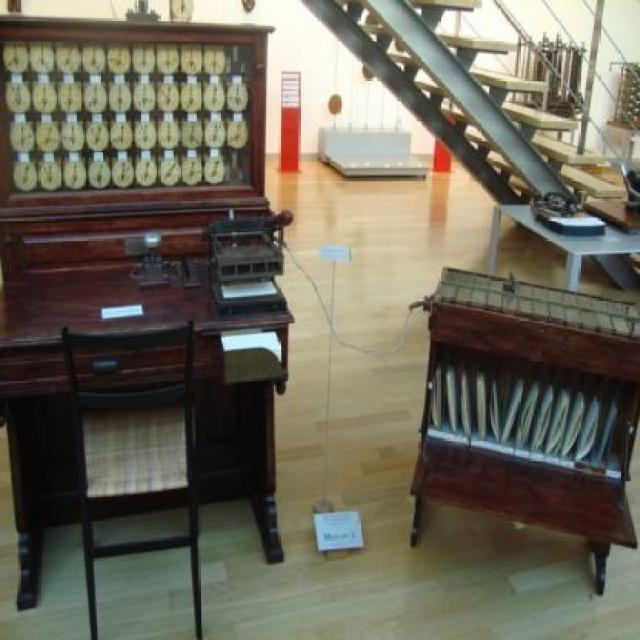stair: (298, 0, 639, 292)
